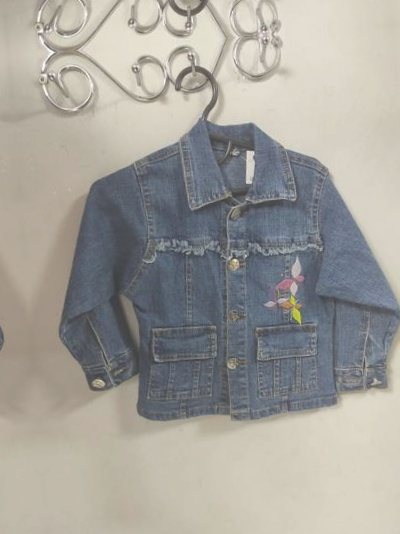Blazer: (44, 77, 400, 440), (0, 110, 8, 473), (8, 0, 376, 1)
